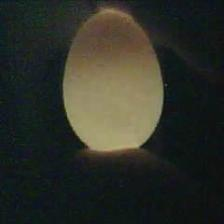infertile: (59, 5, 167, 153)
